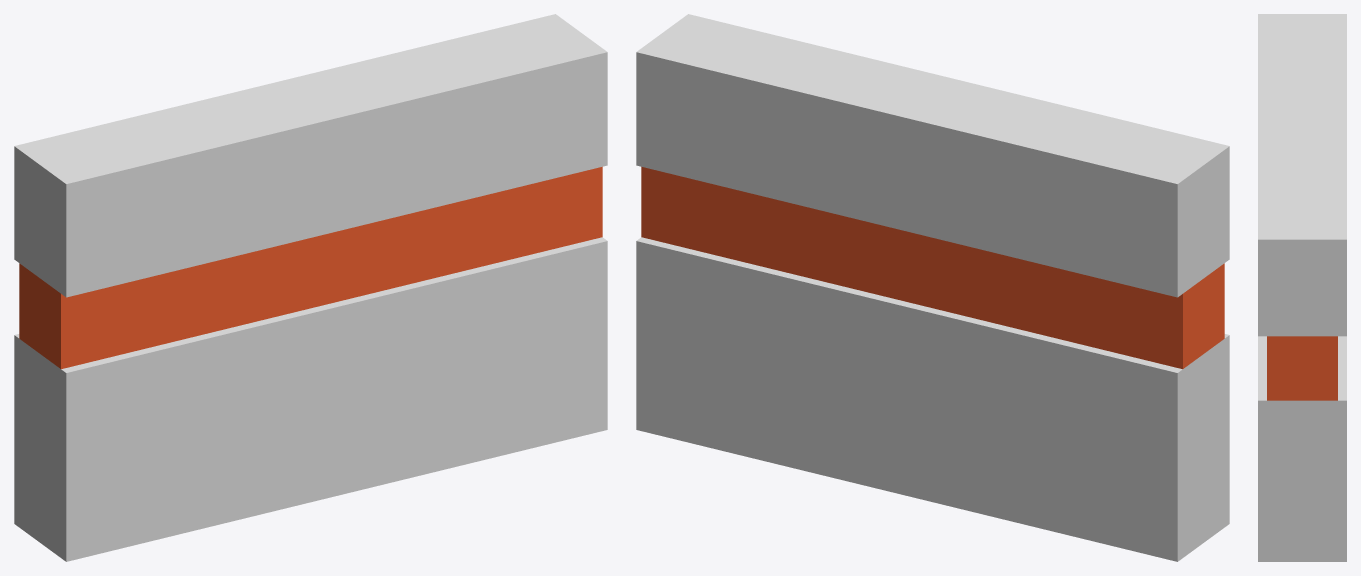
Rendered from Commisary Wall 4.obj.
3 views of the same model, side by side, from view 1: azimuth 30°, elevation 25°; view 2: azimuth 150°, elevation 25°; view 3: azimuth 270°, elevation 25° (orthographic). The views are drawn at different scales.
Bounding box in the file's own units: 60 × 40 × 10.
1 material, 1 textured.
